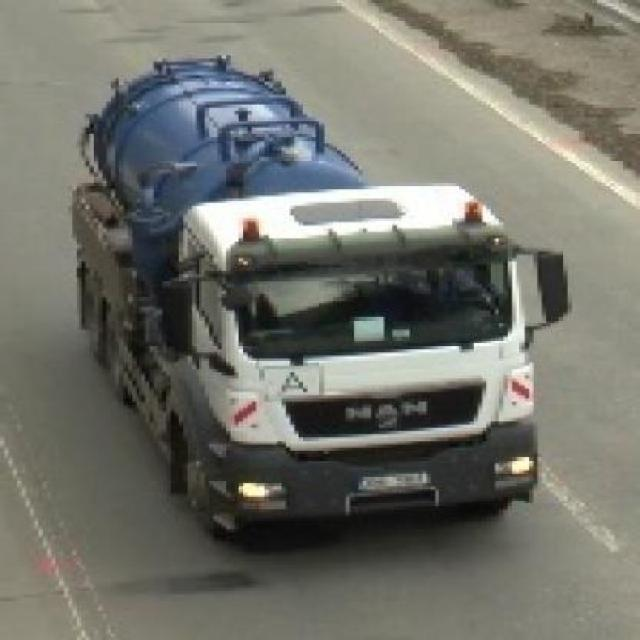truck: (70, 50, 577, 541)
